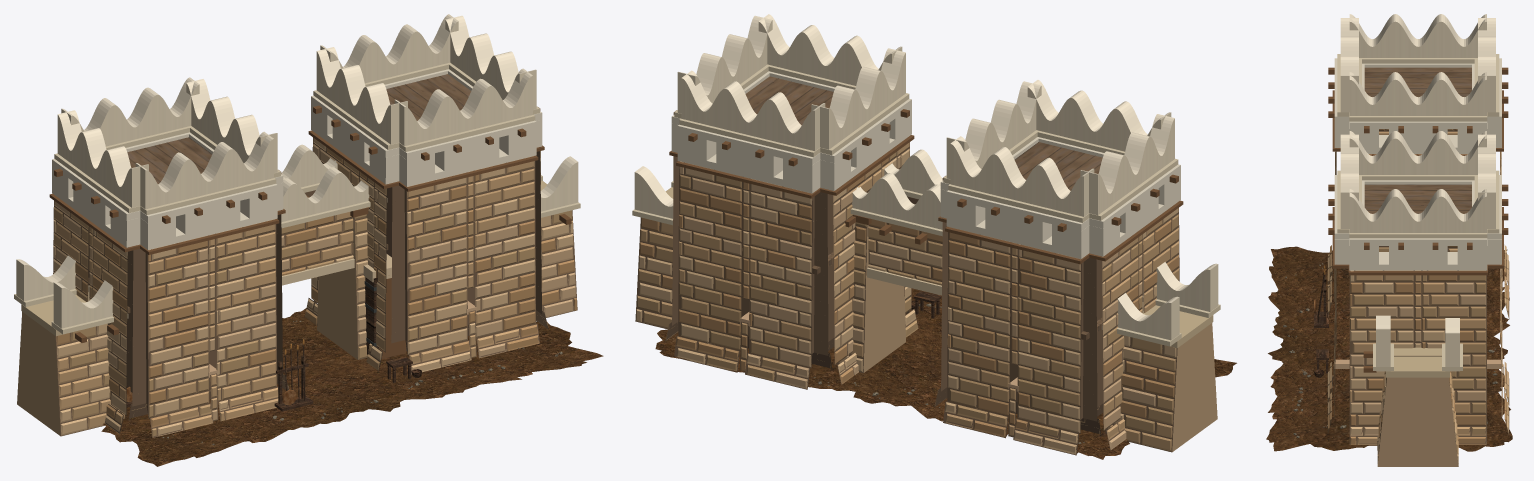
Rendered from gatehouse.glb.
The picture shows the model from 3 angles, left to right: view 1: azimuth 30°, elevation 25°; view 2: azimuth 150°, elevation 25°; view 3: azimuth 270°, elevation 25°; orthographic projection. The views are drawn at different scales.
Visible parts, largest first — view 1: part_1, part_4, part_17, part_7, part_33, part_41, part_28, part_43, part_35, part_15, part_34, part_42 (+5 smaller); view 2: part_1, part_4, part_17, part_37, part_29, part_7, part_28, part_43, part_35, part_30, part_38, part_2 (+5 smaller); view 3: part_1, part_4, part_17, part_39, part_28, part_31, part_7, part_8, part_32, part_40, part_41, part_37 (+13 smaller).
Boxes of the visible parts, bbox=[...] form: part_1: bbox=[17, 137, 577, 437]; part_4: bbox=[16, 14, 578, 328]; part_17: bbox=[101, 308, 603, 466]; part_7: bbox=[49, 105, 571, 359]; part_33: bbox=[140, 184, 277, 249]; part_41: bbox=[399, 120, 536, 186]; part_28: bbox=[88, 74, 471, 418]; part_43: bbox=[311, 95, 399, 184]; part_35: bbox=[52, 159, 140, 247]; part_15: bbox=[126, 277, 412, 411]; part_34: bbox=[140, 178, 276, 214]; part_42: bbox=[399, 114, 535, 151]; part_1: bbox=[635, 142, 1217, 455]; part_4: bbox=[634, 14, 1218, 340]; part_17: bbox=[655, 288, 1236, 459]; part_37: bbox=[677, 124, 820, 193]; part_29: bbox=[946, 190, 1089, 258]; part_7: bbox=[669, 109, 1183, 264]; part_28: bbox=[742, 76, 1102, 340]; part_43: bbox=[820, 98, 911, 190]; part_35: bbox=[1089, 164, 1180, 256]; part_30: bbox=[948, 184, 1089, 222]; part_38: bbox=[679, 118, 820, 157]; part_2: bbox=[1142, 302, 1213, 348]; part_1: bbox=[1327, 129, 1509, 466]; part_4: bbox=[1340, 14, 1495, 371]; part_17: bbox=[1266, 246, 1512, 451]; part_39: bbox=[1349, 238, 1487, 270]; part_28: bbox=[1364, 67, 1471, 213]; part_31: bbox=[1349, 121, 1487, 153]; part_7: bbox=[1328, 67, 1508, 372]; part_8: bbox=[1386, 347, 1449, 377]; part_32: bbox=[1349, 112, 1487, 121]; part_40: bbox=[1349, 229, 1487, 238]; part_41: bbox=[1334, 175, 1364, 264]; part_37: bbox=[1472, 175, 1501, 264].
Bounding box in the file's own units: 12.07 × 5.91 × 5.55.
Materials: 21 (9 with a texture image).
